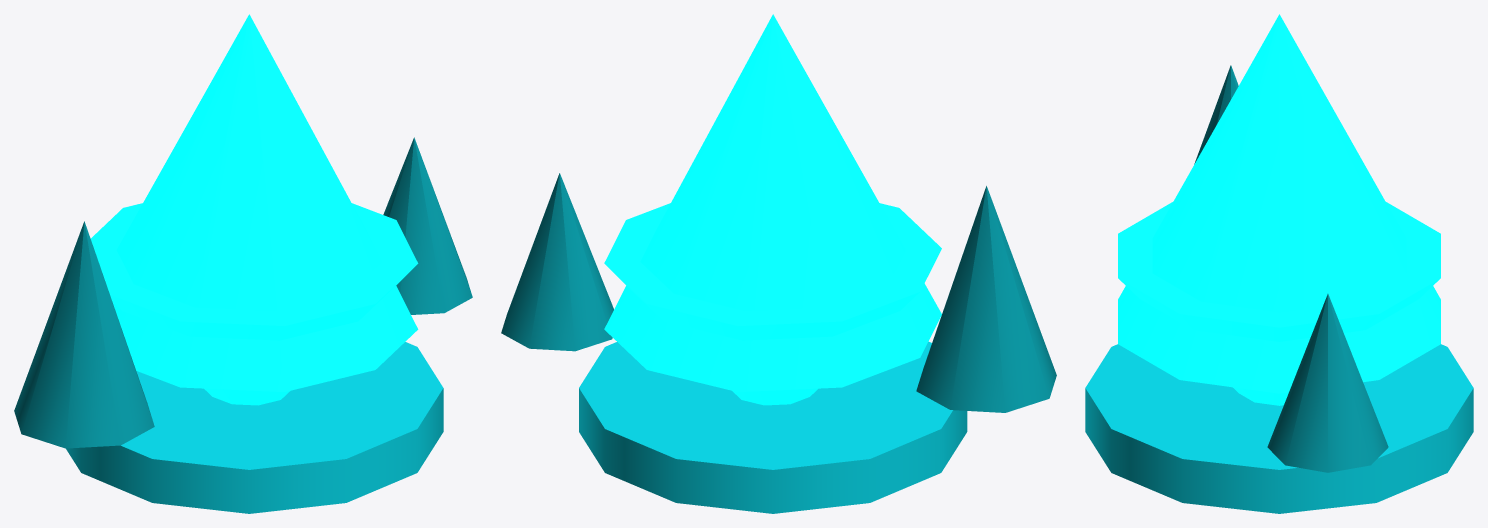
File: cristal_fuerza.glb
3 views of the same model, side by side, from view 1: azimuth 30°, elevation 25°; view 2: azimuth 150°, elevation 25°; view 3: azimuth 270°, elevation 25° (orthographic).
Visible parts, largest first — view 1: Glow, Body, Detail; view 2: Glow, Body, Detail; view 3: Glow, Body, Detail.
Boxes of the visible parts, x1,y1,x2,y2 form: Glow: [91, 14, 418, 405]; Body: [66, 342, 443, 513]; Detail: [14, 137, 472, 448]; Glow: [604, 14, 941, 405]; Body: [579, 341, 967, 513]; Detail: [501, 173, 1056, 412]; Glow: [1118, 14, 1440, 405]; Body: [1085, 344, 1473, 513]; Detail: [1194, 65, 1388, 472].
Size of the model in its own units: 0.235 by 0.19 by 0.16.
